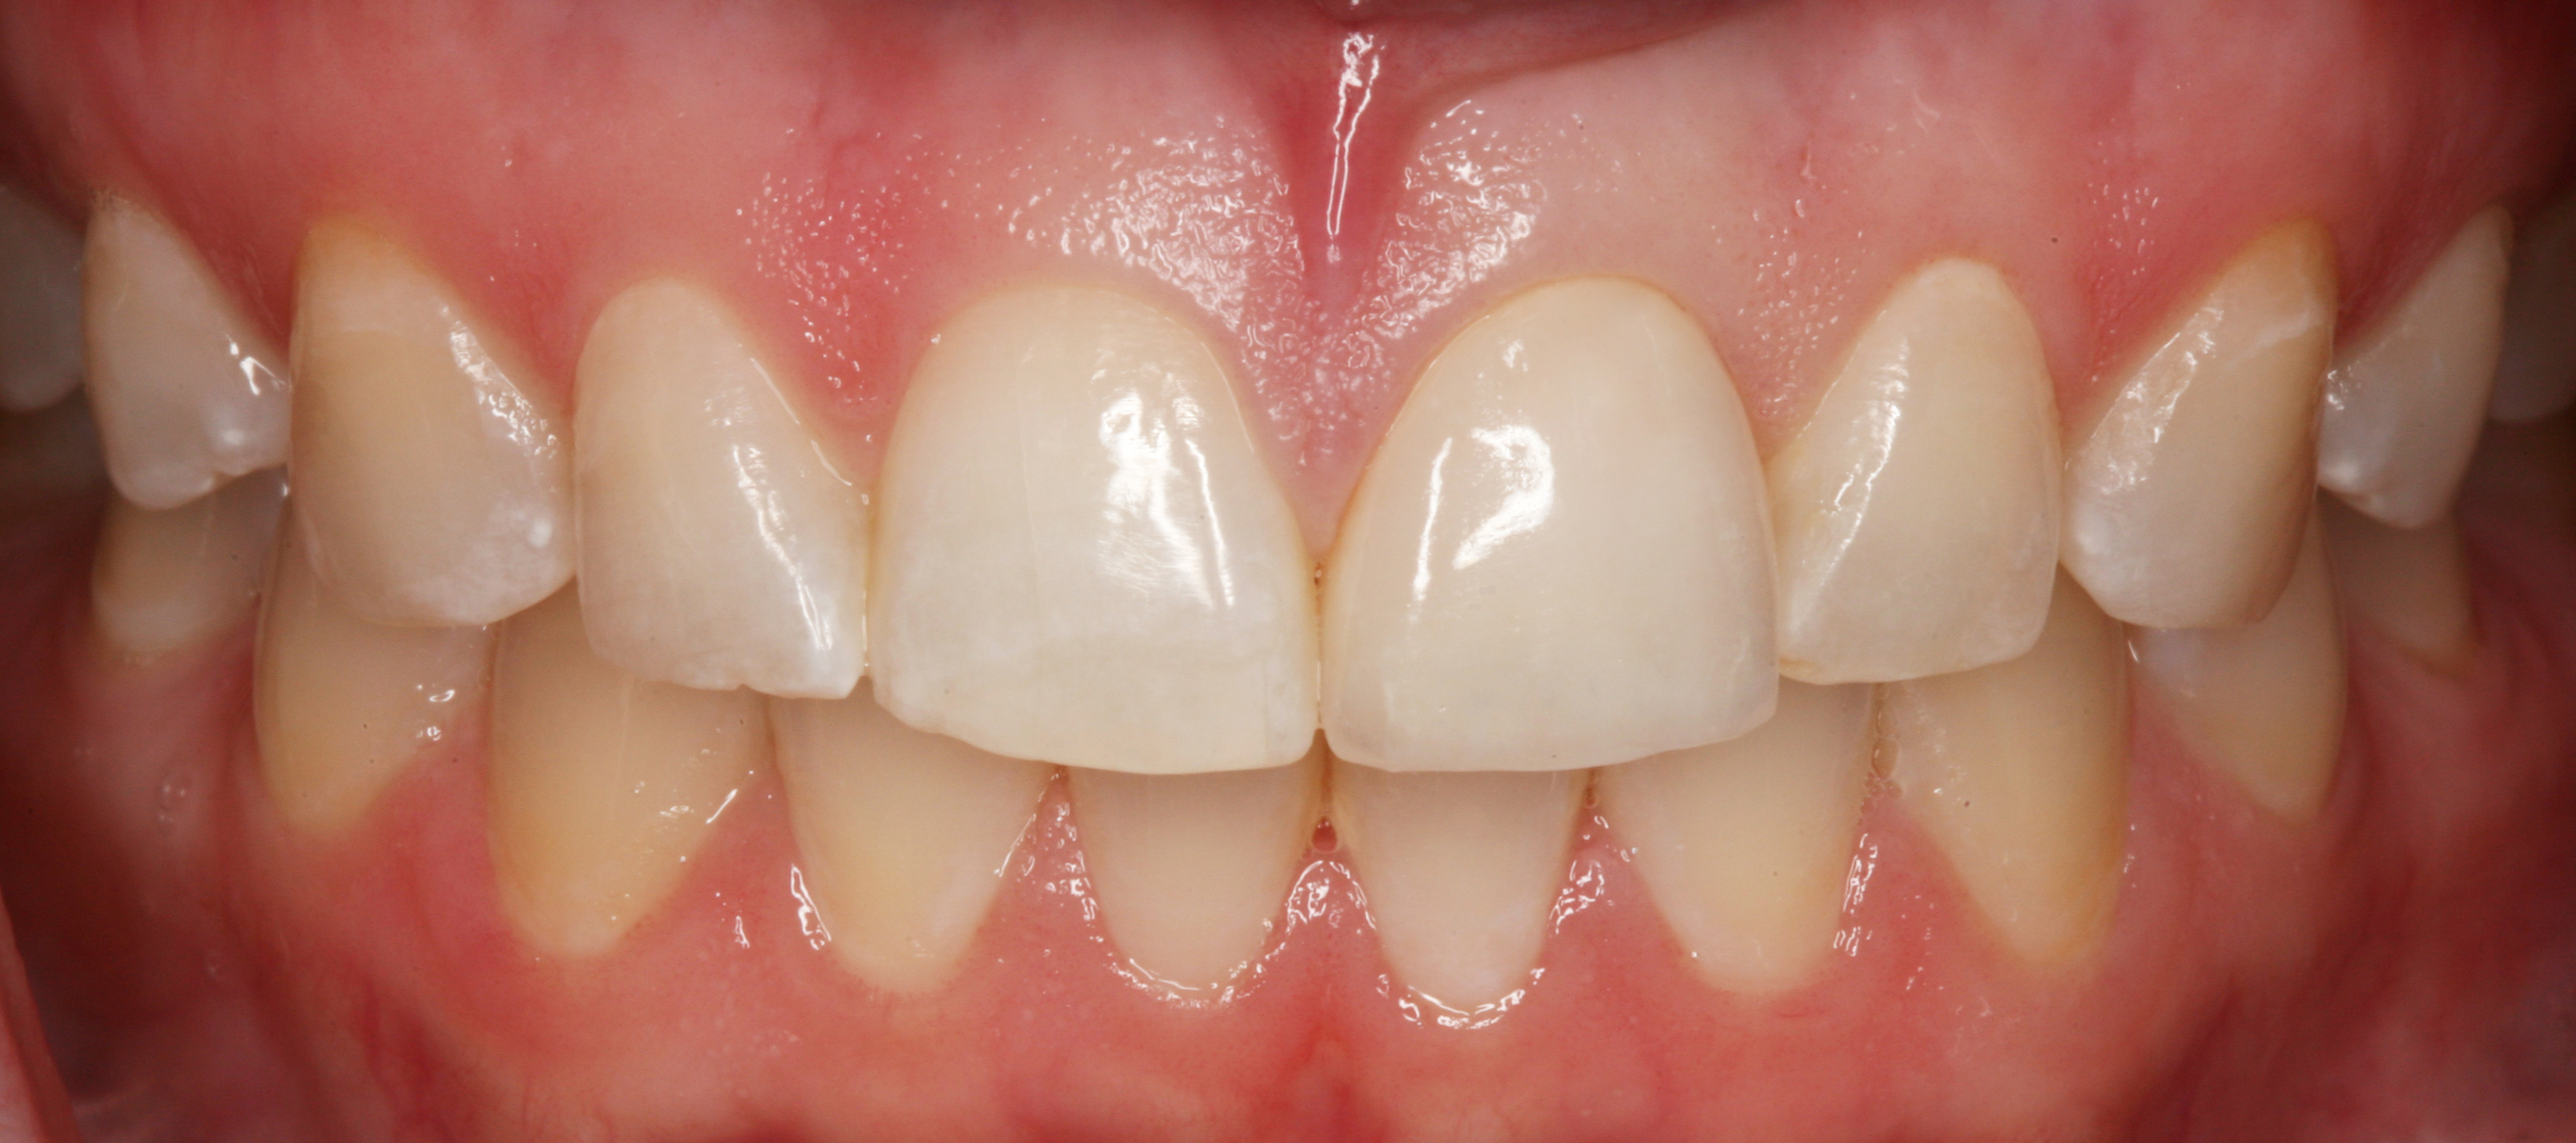UL1BC_decay: (2339, 225, 2507, 527)
ULCI_healthy: (1319, 286, 1778, 770)
ULC_decay: (2068, 232, 2326, 627)
ULLI_healthy: (1778, 261, 2063, 686)
UR1BC_decay: (84, 207, 283, 507)
URCI_healthy: (876, 291, 1319, 772)
URC_decay: (289, 235, 570, 619)
URLI_healthy: (575, 286, 869, 686)
